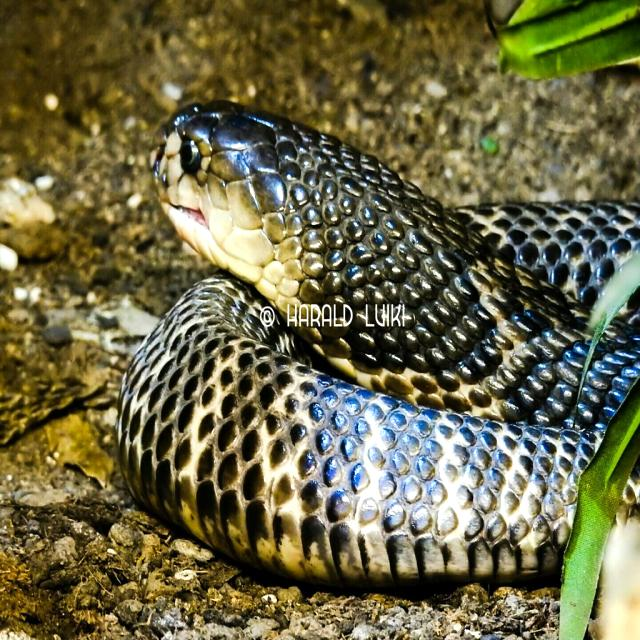Naja kaouthia: (117, 102, 639, 586)
